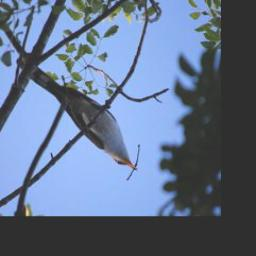Cuckoo: (31, 71, 140, 173)
